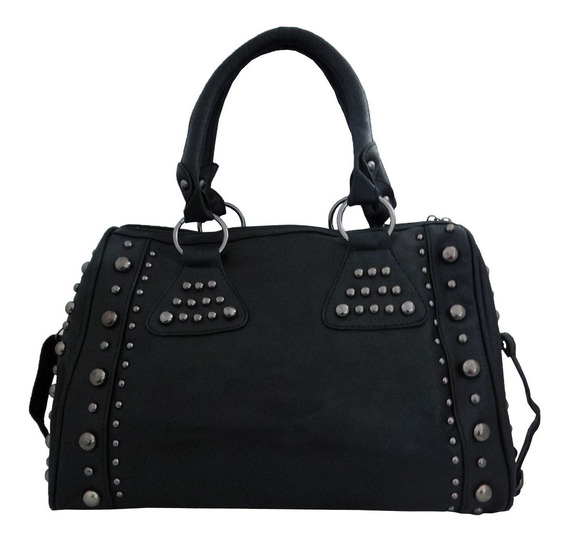cartera: (29, 25, 539, 510)
